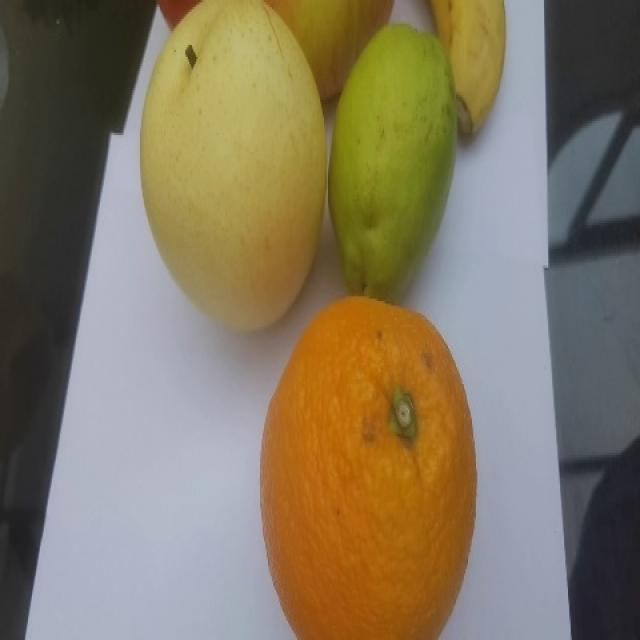Banana: (426, 0, 506, 138)
Orange: (258, 294, 477, 638)
